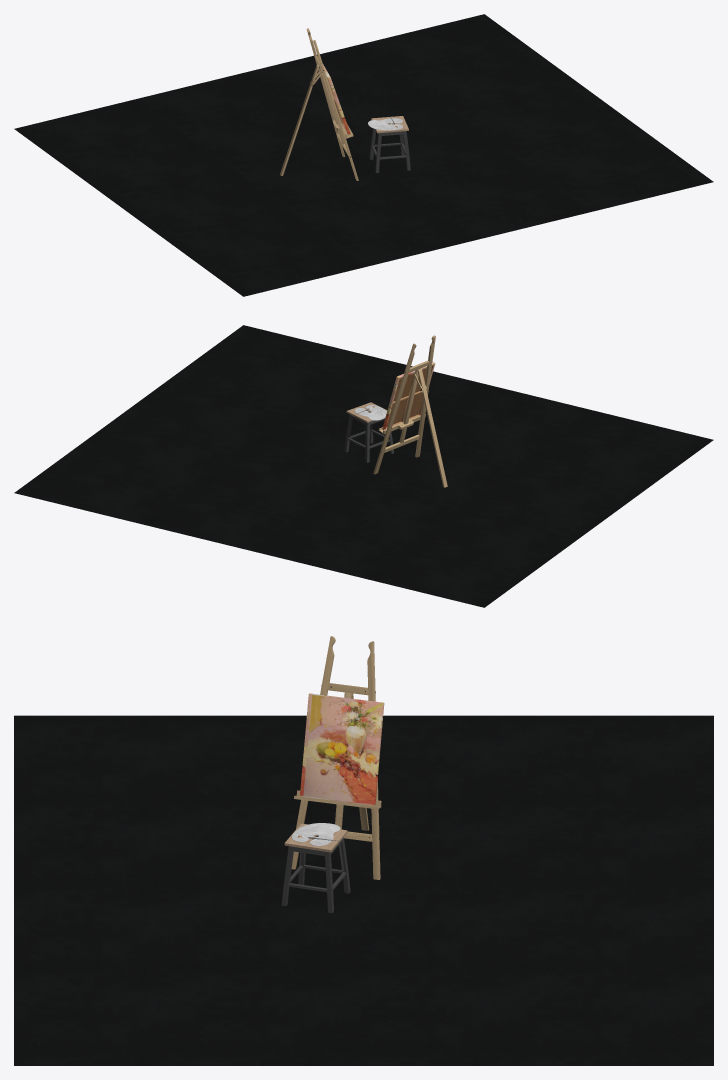
File: easel-stool-scene.glb
3 views of the same model, one above another, from view 1: azimuth 30°, elevation 25°; view 2: azimuth 150°, elevation 25°; view 3: azimuth 270°, elevation 25° (orthographic). The views are drawn at different scales.
Parts seen in each view (by area): view 1: television concrete floor, Mesh4, Mesh704; view 2: television concrete floor, Mesh4, Mesh704; view 3: television concrete floor, Mesh4, Mesh704.
Boxes of the visible parts, x1,y1,x2,y2 form: television concrete floor: (14,14,713,296); Mesh4: (280,28,358,180); Mesh704: (368,116,410,172); television concrete floor: (14,325,713,607); Mesh4: (373,335,447,487); Mesh704: (344,402,393,462); television concrete floor: (14,715,713,1065); Mesh4: (291,636,384,879); Mesh704: (281,823,350,913).
Size of the model in its own units: 5.8 by 1.63 by 4.9.
Materials: 13 (12 with a texture image).
